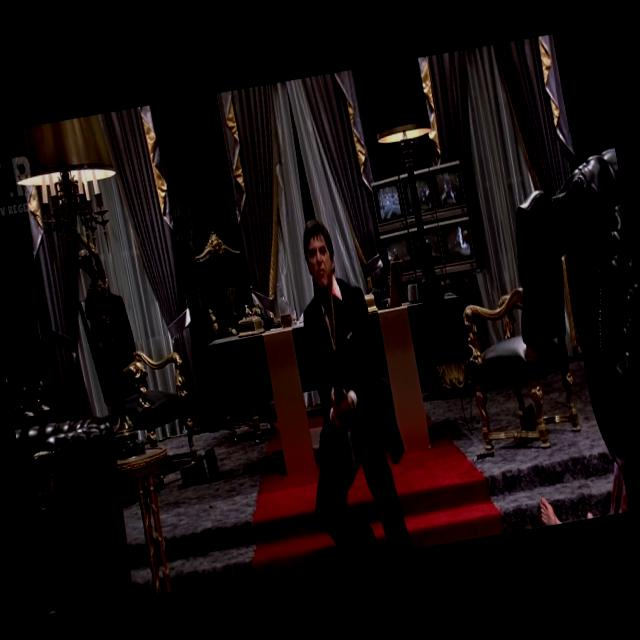long weapon: (298, 312, 386, 478)
